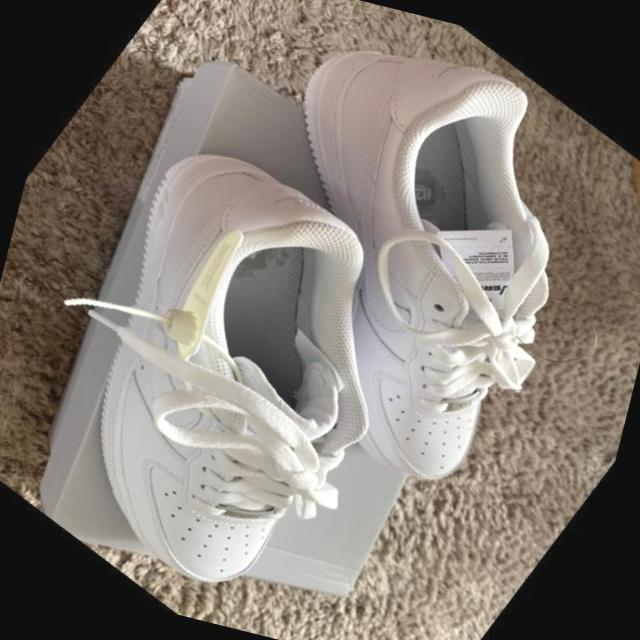nike_original_airforce: (0, 80, 530, 640), (105, 0, 640, 549)
